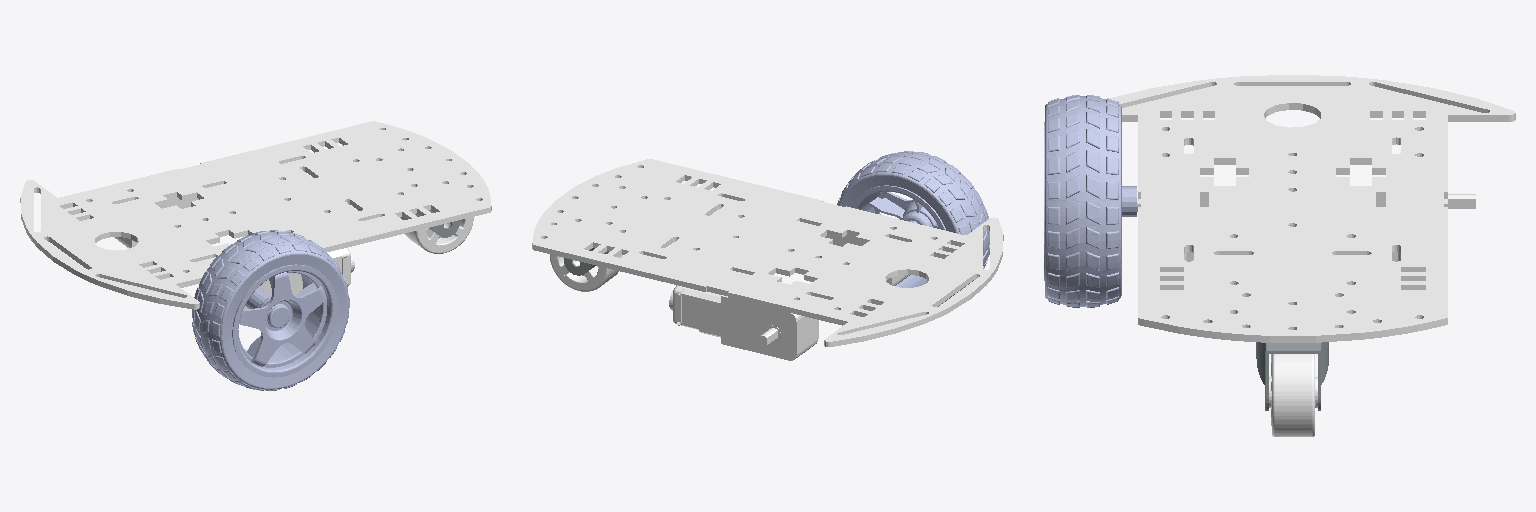
The robot description file, URDF, robot "treewheel_mobile":
<?xml version="1.0" encoding="utf-8"?>
<!-- This URDF was automatically created by SolidWorks to URDF Exporter! Originally created by [author] ([email redacted]) 
     Commit Version: 1.6.0-4-g7f85cfe  Build Version: 1.6.7995.38578
     For more information, please see http://wiki.ros.org/sw_urdf_exporter -->
<robot
  name="treewheel_mobile">
  <link
    name="base_link">
    <inertial>
      <origin
        xyz="-0.0073563 -1.1796E-16 -0.0071395"
        rpy="0 0 0" />
      <mass
        value="0.10052" />
      <inertia
        ixx="4.9396E-05"
        ixy="-1.1939E-19"
        ixz="1.3656E-21"
        iyy="0.00017682"
        iyz="1.8099E-14"
        izz="0.00022257" />
    </inertial>
    <visual>
      <origin
        xyz="0 0 0"
        rpy="0 0 0" />
      <geometry>
        <mesh
          filename="package://treewheel_mobile/meshes/base_link.STL" />
      </geometry>
      <material
        name="">
        <color
          rgba="1 1 1 0.3" />
      </material>
    </visual>
    <collision>
      <origin
        xyz="0 0 0"
        rpy="0 0 0" />
      <geometry>
        <mesh
          filename="package://treewheel_mobile/meshes/base_link.STL" />
      </geometry>
    </collision>
  </link>
  <link
    name="left_wheel">
    <inertial>
      <origin
        xyz="2.2714E-09 -3.2445E-08 -0.0073729"
        rpy="0 0 0" />
      <mass
        value="0.021404" />
      <inertia
        ixx="8.6283E-06"
        ixy="-3.3802E-12"
        ixz="3.1432E-13"
        iyy="8.6269E-06"
        iyz="-9.8955E-12"
        izz="1.4515E-05" />
    </inertial>
    <visual>
      <origin
        xyz="0 0 0"
        rpy="0 0 0" />
      <geometry>
        <mesh
          filename="package://treewheel_mobile/meshes/left_wheel.STL" />
      </geometry>
      <material
        name="">
        <color
          rgba="0.79216 0.81961 0.93333 1" />
      </material>
    </visual>
    <collision>
      <origin
        xyz="0 0 0"
        rpy="0 0 0" />
      <geometry>
        <mesh
          filename="package://treewheel_mobile/meshes/left_wheel.STL" />
      </geometry>
    </collision>
  </link>
  <joint
    name="leftwheel"
    type="continuous">
    <origin
      xyz="-0.033259 0.07575 -0.01375"
      rpy="-1.5708 0 0" />
    <parent
      link="base_link" />
    <child
      link="left_wheel" />
    <axis
      xyz="0 0 -1" />
    <limit
      effort="10"
      velocity="10" />
    <dynamics
      damping="0.1"
      friction="0.1" />
  </joint>
  <link
    name="right_wheel">
    <inertial>
      <origin
        xyz="2.2714E-09 3.2445E-08 0.0073729"
        rpy="0 0 0" />
      <mass
        value="0.021404" />
      <inertia
        ixx="8.6283E-06"
        ixy="3.3802E-12"
        ixz="-3.1432E-13"
        iyy="8.6269E-06"
        iyz="-9.8955E-12"
        izz="1.4515E-05" />
    </inertial>
    <visual>
      <origin
        xyz="0 0 0"
        rpy="0 0 0" />
      <geometry>
        <mesh
          filename="package://treewheel_mobile/meshes/right_wheel.STL" />
      </geometry>
      <material
        name="">
        <color
          rgba="0.79216 0.81961 0.93333 1" />
      </material>
    </visual>
    <collision>
      <origin
        xyz="0 0 0"
        rpy="0 0 0" />
      <geometry>
        <mesh
          filename="package://treewheel_mobile/meshes/right_wheel.STL" />
      </geometry>
    </collision>
  </link>
  <joint
    name="rightwheel"
    type="continuous">
    <origin
      xyz="-0.033259 -0.07575 -0.01375"
      rpy="-1.5708 0 0" />
    <parent
      link="base_link" />
    <child
      link="right_wheel" />
    <axis
      xyz="0 0 1" />
    <limit
      effort="10"
      velocity="10" />
    <dynamics
      damping="0.1"
      friction="0.1" />
  </joint>
  <link
    name="castor">
    <inertial>
      <origin
        xyz="0.0017144 -7.602E-06 -0.0050145"
        rpy="0 0 0" />
      <mass
        value="0.042129" />
      <inertia
        ixx="3.9469E-06"
        ixy="-1.7072E-09"
        ixz="2.4805E-07"
        iyy="4.0905E-06"
        iyz="2.4557E-09"
        izz="7.0578E-06" />
    </inertial>
    <visual>
      <origin
        xyz="0 0 0"
        rpy="0 0 0" />
      <geometry>
        <mesh
          filename="package://treewheel_mobile/meshes/castor.STL" />
      </geometry>
      <material
        name="">
        <color
          rgba="0.63922 0.66667 0.67843 1" />
      </material>
    </visual>
    <collision>
      <origin
        xyz="0 0 0"
        rpy="0 0 0" />
      <geometry>
        <mesh
          filename="package://treewheel_mobile/meshes/castor.STL" />
      </geometry>
    </collision>
  </link>
  <joint
    name="castorjoint"
    type="continuous">
    <origin
      xyz="0.072581 0 -0.0025"
      rpy="0 0 0" />
    <parent
      link="base_link" />
    <child
      link="castor" />
    <axis
      xyz="0 0 1" />
    <limit
      effort="10"
      velocity="10" />
  </joint>
  <link
    name="castor_wheel">
    <inertial>
      <origin
        xyz="2.6204E-11 1.0408E-17 -2.7771E-09"
        rpy="0 0 0" />
      <mass
        value="0.0082874" />
      <inertia
        ixx="6.393E-07"
        ixy="7.9724E-23"
        ixz="-3.5083E-09"
        iyy="6.3927E-07"
        iyz="1.3648E-22"
        izz="1.0111E-06" />
    </inertial>
    <visual>
      <origin
        xyz="0 0 0"
        rpy="0 0 0" />
      <geometry>
        <mesh
          filename="package://treewheel_mobile/meshes/castor_wheel.STL" />
      </geometry>
      <material
        name="">
        <color
          rgba="1 1 1 1" />
      </material>
    </visual>
    <collision>
      <origin
        xyz="0 0 0"
        rpy="0 0 0" />
      <geometry>
        <mesh
          filename="package://treewheel_mobile/meshes/castor_wheel.STL" />
      </geometry>
    </collision>
  </link>
  <joint
    name="castorwheel"
    type="continuous">
    <origin
      xyz="0.015014 0.00014167 -0.02296"
      rpy="-1.5708 0 0" />
    <parent
      link="castor" />
    <child
      link="castor_wheel" />
    <axis
      xyz="-0.0094352 0 0.99996" />
    <limit
      effort="10"
      velocity="10" />
    <dynamics
      damping="0.1"
      friction="0.1" />
  </joint>
</robot>

--- Facts derived from the render (not from the file) ---
3 views of the same robot in one strip: view 1: azimuth 30°, elevation 25°; view 2: azimuth 150°, elevation 25°; view 3: azimuth 270°, elevation 25° (orthographic).
Model treewheel_mobile with 5 links and 4 joints (4 continuous), rooted at base_link, posed all joints at 0.
Visible links, largest first — view 1: base_link, right_wheel, castor_wheel; view 2: base_link, right_wheel, castor_wheel; view 3: base_link, right_wheel, castor_wheel, castor.
Link boxes in pixels (box(x1,y1,x2,y2)): base_link: box(20, 121, 491, 309); right_wheel: box(192, 230, 349, 390); castor_wheel: box(400, 217, 473, 253); base_link: box(532, 159, 1003, 360); right_wheel: box(837, 151, 989, 306); castor_wheel: box(550, 254, 622, 291); base_link: box(1109, 75, 1515, 342); right_wheel: box(1044, 95, 1136, 307); castor_wheel: box(1269, 354, 1317, 436); castor: box(1256, 342, 1328, 410).
Bounding box of the posed robot: 0.2029 × 0.1522 × 0.0689 m (x, y, z).
4 mesh visuals loaded from 5 distinct referenced files (4 binary STL); not drawn: 1 (reference not matched to a file when rendering).